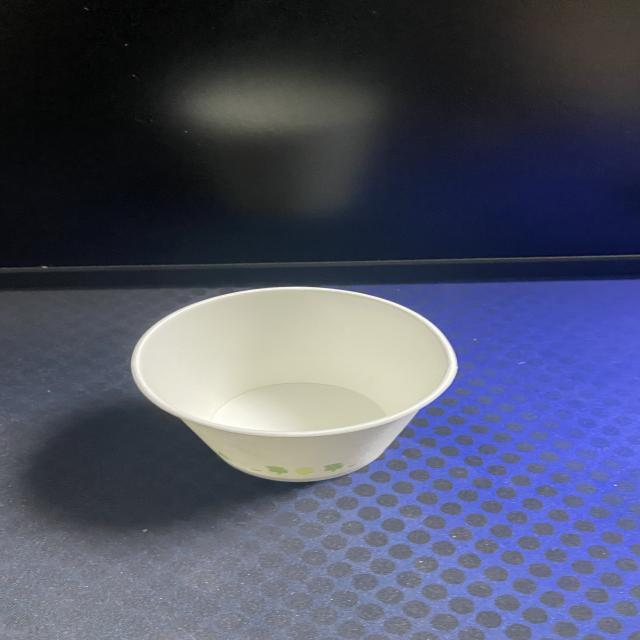trash: (130, 284, 460, 484)
